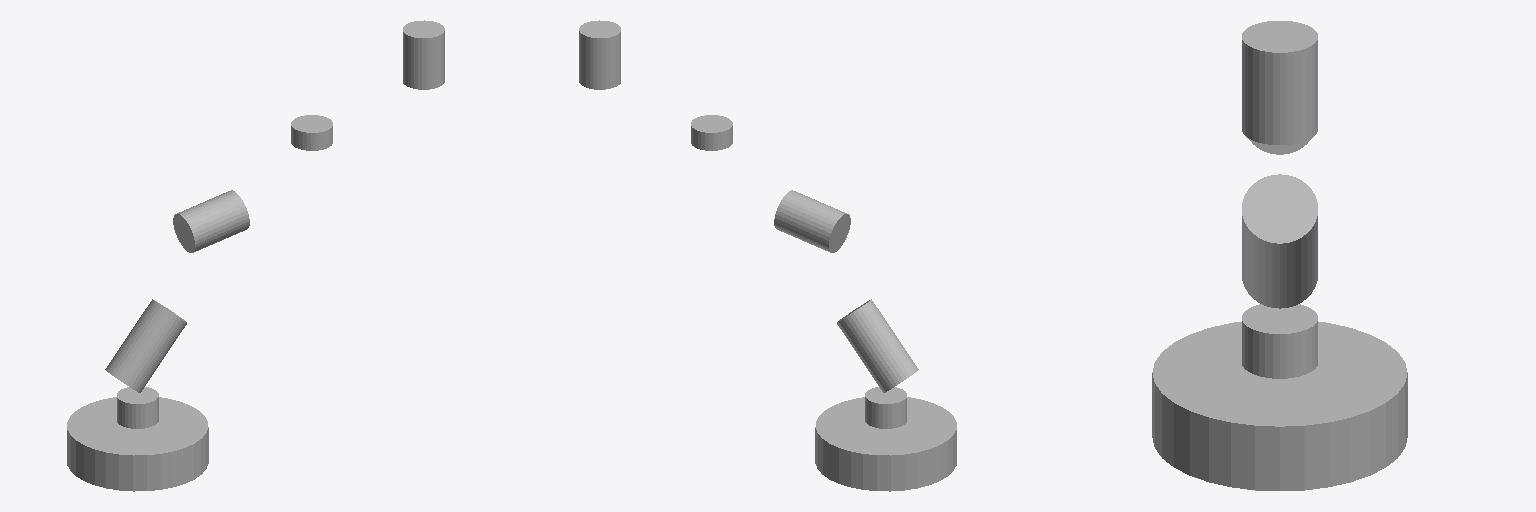
The robot description file, URDF, robot "test_robot":
<?xml version="1.0" ?>
<!-- =================================================================================== -->
<!-- |                                                                                 | -->
<!-- =================================================================================== -->
<robot name="test_robot">
  <link name="base_link">
    <inertial>
      <origin rpy="0 0 0" xyz="0.0000 0.0000 0.0280"/>
      <mass value="1572.9"/>
      <inertia ixx="89.282" ixy="-0.47721" ixz="0.85562" iyy="107.51" iyz="0.0067576" izz="172.02"/>
    </inertial>
    <visual>
      <origin rpy="0 0 0" xyz="0 0 0"/>
      <geometry>
        <!-- <mesh filename="package://kuka_kr210_support/meshes/kr210l150/visual/base_link.dae"/> -->
        <cylinder radius="0.1" length="0.056"/>
      </geometry>
      <material name="">
        <color rgba="0.75294 0.75294 0.75294 1"/>
      </material>
    </visual>
    <collision>
      <origin rpy="0 0 0" xyz="0 0 0"/>
      <geometry>
        <!-- <mesh filename="package://kuka_kr210_support/meshes/kr210l150/visual/base_link.dae"/> -->
        <cylinder radius="0.1" length="0.056"/>
      </geometry>
    </collision>
  </link>
  <link name="link_1">
    <inertial>
      <origin rpy="0 0 0" xyz="0.0070 0.0000 0.0740"/>
      <mass value="1385.5"/>
      <inertia ixx="90.873" ixy="33.809" ixz="17.159" iyy="147.03" iyz="0.063634" izz="168.19"/>
    </inertial>
    <visual>
      <origin rpy="0 0 0" xyz="0 0 0"/>
      <geometry>
        <!-- <mesh filename="package://kuka_kr210_support/meshes/kr210l150/visual/base_link.dae"/> -->
        <cylinder radius="0.03" length="0.0386"/>
      </geometry>
      <material name="">
        <color rgba="0.75294 0.75294 0.75294 1"/>
      </material>
    </visual>
    <collision>
      <origin rpy="0 0 0" xyz="0 0 0"/>
      <geometry>
        <!-- <mesh filename="package://kuka_kr210_support/meshes/kr210l150/visual/base_link.dae"/> -->
        <cylinder radius="0.03" length="0.0386"/>
      </geometry>
    </collision>
  </link>
  <link name="link_2">
    <inertial>
      <origin rpy="0 0.6971631336422324 0" xyz="0.0600 0.0000 0.1305"/>
      <mass value="958.62"/>
      <inertia ixx="180.42" ixy="-0.83462" ixz="0.32549" iyy="177.68" iyz="-20.82" izz="20.495"/>
    </inertial>
    <visual>
      <origin rpy="0 0.6971631336422324 0" xyz="0 0 0"/>
      <geometry>
        <!-- <mesh filename="package://kuka_kr210_support/meshes/kr210l150/visual/base_link.dae"/> -->
        <cylinder radius="0.03" length="0.12"/>
      </geometry>
      <material name="">
        <color rgba="0.75294 0.75294 0.75294 1"/>
      </material>
    </visual>
    <collision>
      <origin rpy="0 0 0" xyz="0 0 0"/>
      <geometry>
        <!-- <mesh filename="package://kuka_kr210_support/meshes/kr210l150/visual/base_link.dae"/> -->
        <cylinder radius="0.03" length="0.12"/>
      </geometry>
    </collision>
  </link>
  <link name="link_3">
    <inertial>
      <origin rpy="0 1.39432 0" xyz="0.1349 0.0000 0.1345"/>
      <mass value="710.03"/>
      <inertia ixx="11.887" ixy="-0.12154" ixz="-1.3604" iyy="98.805" iyz="-0.056505" izz="96.251"/>
    </inertial>
    <visual>
      <origin rpy="0 1.39432 0" xyz="0 0 0"/>
      <geometry>
        <!-- <mesh filename="package://kuka_kr210_support/meshes/kr210l150/visual/base_link.dae"/> -->
        <cylinder radius="0.03" length="0.09"/>
      </geometry>
      <material name="">
        <color rgba="0.75294 0.75294 0.75294 1"/>
      </material>
    </visual>
    <collision>
      <origin rpy="0 0 0" xyz="0 0 0"/>
      <geometry>
        <!-- <mesh filename="package://kuka_kr210_support/meshes/kr210l150/visual/base_link.dae"/> -->
        <cylinder radius="0.03" length="0.09"/>
      </geometry>
    </collision>
  </link>
  <link name="link_4">
    <inertial>
      <origin rpy="0 0 0" xyz="0.1728 0.0000 0.0893"/>
      <mass value="173.73"/>
      <inertia ixx="1.8001" ixy="-0.18515" ixz="0.00051232" iyy="5.514" iyz="0.00070469" izz="6.3498"/>
    </inertial>
    <visual>
      <origin rpy="0 0 0" xyz="0 0 0"/>
      <geometry>
        <!-- <mesh filename="package://kuka_kr210_support/meshes/kr210l150/visual/base_link.dae"/> -->
        <cylinder radius="0.03" length="0.028"/>
      </geometry>
      <material name="">
        <color rgba="0.75294 0.75294 0.75294 1"/>
      </material>
    </visual>
    <collision>
      <origin rpy="0 0 0" xyz="0 0 0"/>
      <geometry>
        <!-- <mesh filename="package://kuka_kr210_support/meshes/kr210l150/visual/base_link.dae"/> -->
        <cylinder radius="0.03" length="0.028"/>
      </geometry>
    </collision>
  </link>
  <link name="link_5">
    <inertial>
      <origin rpy="0 0 0" xyz="0.2218 0.0000 0.0786"/>
      <mass value="72.17"/>
      <inertia ixx="0.3938" ixy="-0.085332" ixz="1.7223E-06" iyy="0.68945" iyz="-7.0292E-06" izz="0.67292"/>
    </inertial>
    <visual>
      <origin rpy="0 0 0" xyz="0 0 0"/>
      <geometry>
        <!-- <mesh filename="package://kuka_kr210_support/meshes/kr210l150/visual/base_link.dae"/> -->
        <cylinder radius="0.03" length="0.08"/>
      </geometry>
      <material name="">
        <color rgba="0.75294 0.75294 0.75294 1"/>
      </material>
    </visual>
    <collision>
      <origin rpy="0 0 0" xyz="0 0 0"/>
      <geometry>
        <!-- <mesh filename="package://kuka_kr210_support/meshes/kr210l150/visual/base_link.dae"/> -->
        <cylinder radius="0.03" length="0.08"/>
      </geometry>
    </collision>
  </link>
  <joint name="joint_a1" type="revolute">
    <origin rpy="0 0 0" xyz="0.0000 0.0000 0.0560"/>
    <parent link="base_link"/>
    <child link="link_1"/>
    <axis xyz="0 0 1"/>
    <limit effort="0" lower="-3.228859205" upper="3.228859205" velocity="2.146755039"/>
  </joint>
  <joint name="joint_a2" type="revolute">
    <origin rpy="0 0 0" xyz="0.0140 0.0000 0.0920"/>
    <parent link="link_1"/>
    <child link="link_2"/>
    <axis xyz="0 1 0"/>
    <limit effort="0" lower="-0.785398185" upper="1.483529905" velocity="2.007128695"/>
  </joint>
  <joint name="joint_a3" type="revolute">
    <origin rpy="0 0 0" xyz="0.1060 0.0000 0.1690"/>
    <parent link="link_2"/>
    <child link="link_3"/>
    <axis xyz="0 1 0"/>
    <limit effort="0" lower="-3.66519153" upper="1.134464045" velocity="1.954768816"/>
  </joint>
  <joint name="joint_a4" type="revolute">
    <origin rpy="0 0 0" xyz="0.1638 0.0000 0.1000"/>
    <parent link="link_3"/>
    <child link="link_4"/>
    <axis xyz="0 1 0"/>
    <limit effort="0" lower="-6.10865255" upper="6.10865255" velocity="3.124139447"/>
  </joint>
  <joint name="joint_a5" type="revolute">
    <origin rpy="0 0 0" xyz="0.1818 0.0000 0.0786"/>
    <parent link="link_4"/>
    <child link="link_5"/>
    <axis xyz="0 1 0"/>
    <limit effort="0" lower="-2.181661625" upper="2.181661625" velocity="3.001966396"/>
  </joint>
</robot>

--- Facts derived from the render (not from the file) ---
The picture shows the robot from 3 angles, left to right: view 1: azimuth 30°, elevation 25°; view 2: azimuth 150°, elevation 25°; view 3: azimuth 270°, elevation 25°; orthographic projection.
Model test_robot with 6 links and 5 joints (5 revolute), rooted at base_link, posed every joint at zero.
Links seen in each view (by area): view 1: base_link, link_2, link_3, link_5, link_1, link_4; view 2: base_link, link_2, link_3, link_5, link_1, link_4; view 3: base_link, link_2, link_5, link_1.
Link boxes in pixels (x1=…): base_link: x1=67, y1=397, x2=208, y2=491; link_2: x1=105, y1=299, x2=186, y2=392; link_3: x1=173, y1=190, x2=249, y2=252; link_5: x1=403, y1=20, x2=444, y2=89; link_1: x1=117, y1=387, x2=158, y2=428; link_4: x1=291, y1=115, x2=332, y2=150; base_link: x1=815, y1=397, x2=956, y2=491; link_2: x1=837, y1=299, x2=918, y2=392; link_3: x1=774, y1=190, x2=850, y2=252; link_5: x1=579, y1=20, x2=620, y2=89; link_1: x1=865, y1=387, x2=906, y2=428; link_4: x1=691, y1=115, x2=732, y2=150; base_link: x1=1152, y1=322, x2=1407, y2=490; link_2: x1=1242, y1=174, x2=1317, y2=308; link_5: x1=1242, y1=21, x2=1317, y2=144; link_1: x1=1242, y1=304, x2=1317, y2=378.
Bounding box of the posed robot: 0.5956 × 0.2 × 0.5636 m (x, y, z).
Geometry: primitives only (box / cylinder / sphere), no mesh files.